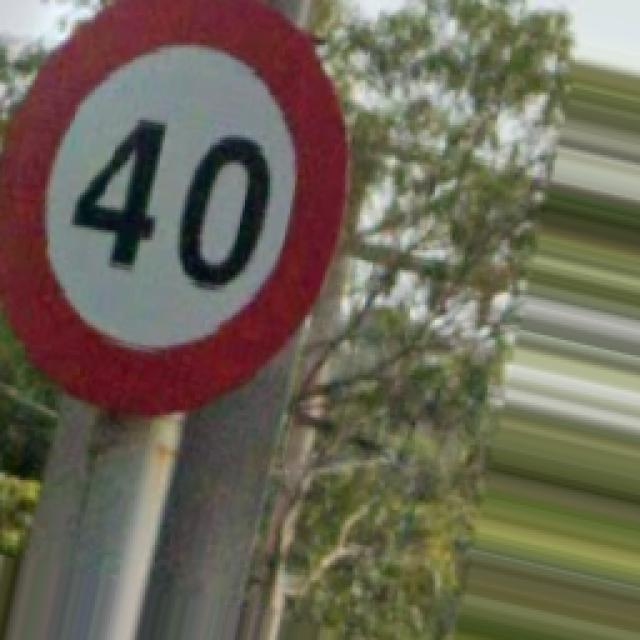Speed Limit -40-: (0, 0, 345, 412)
